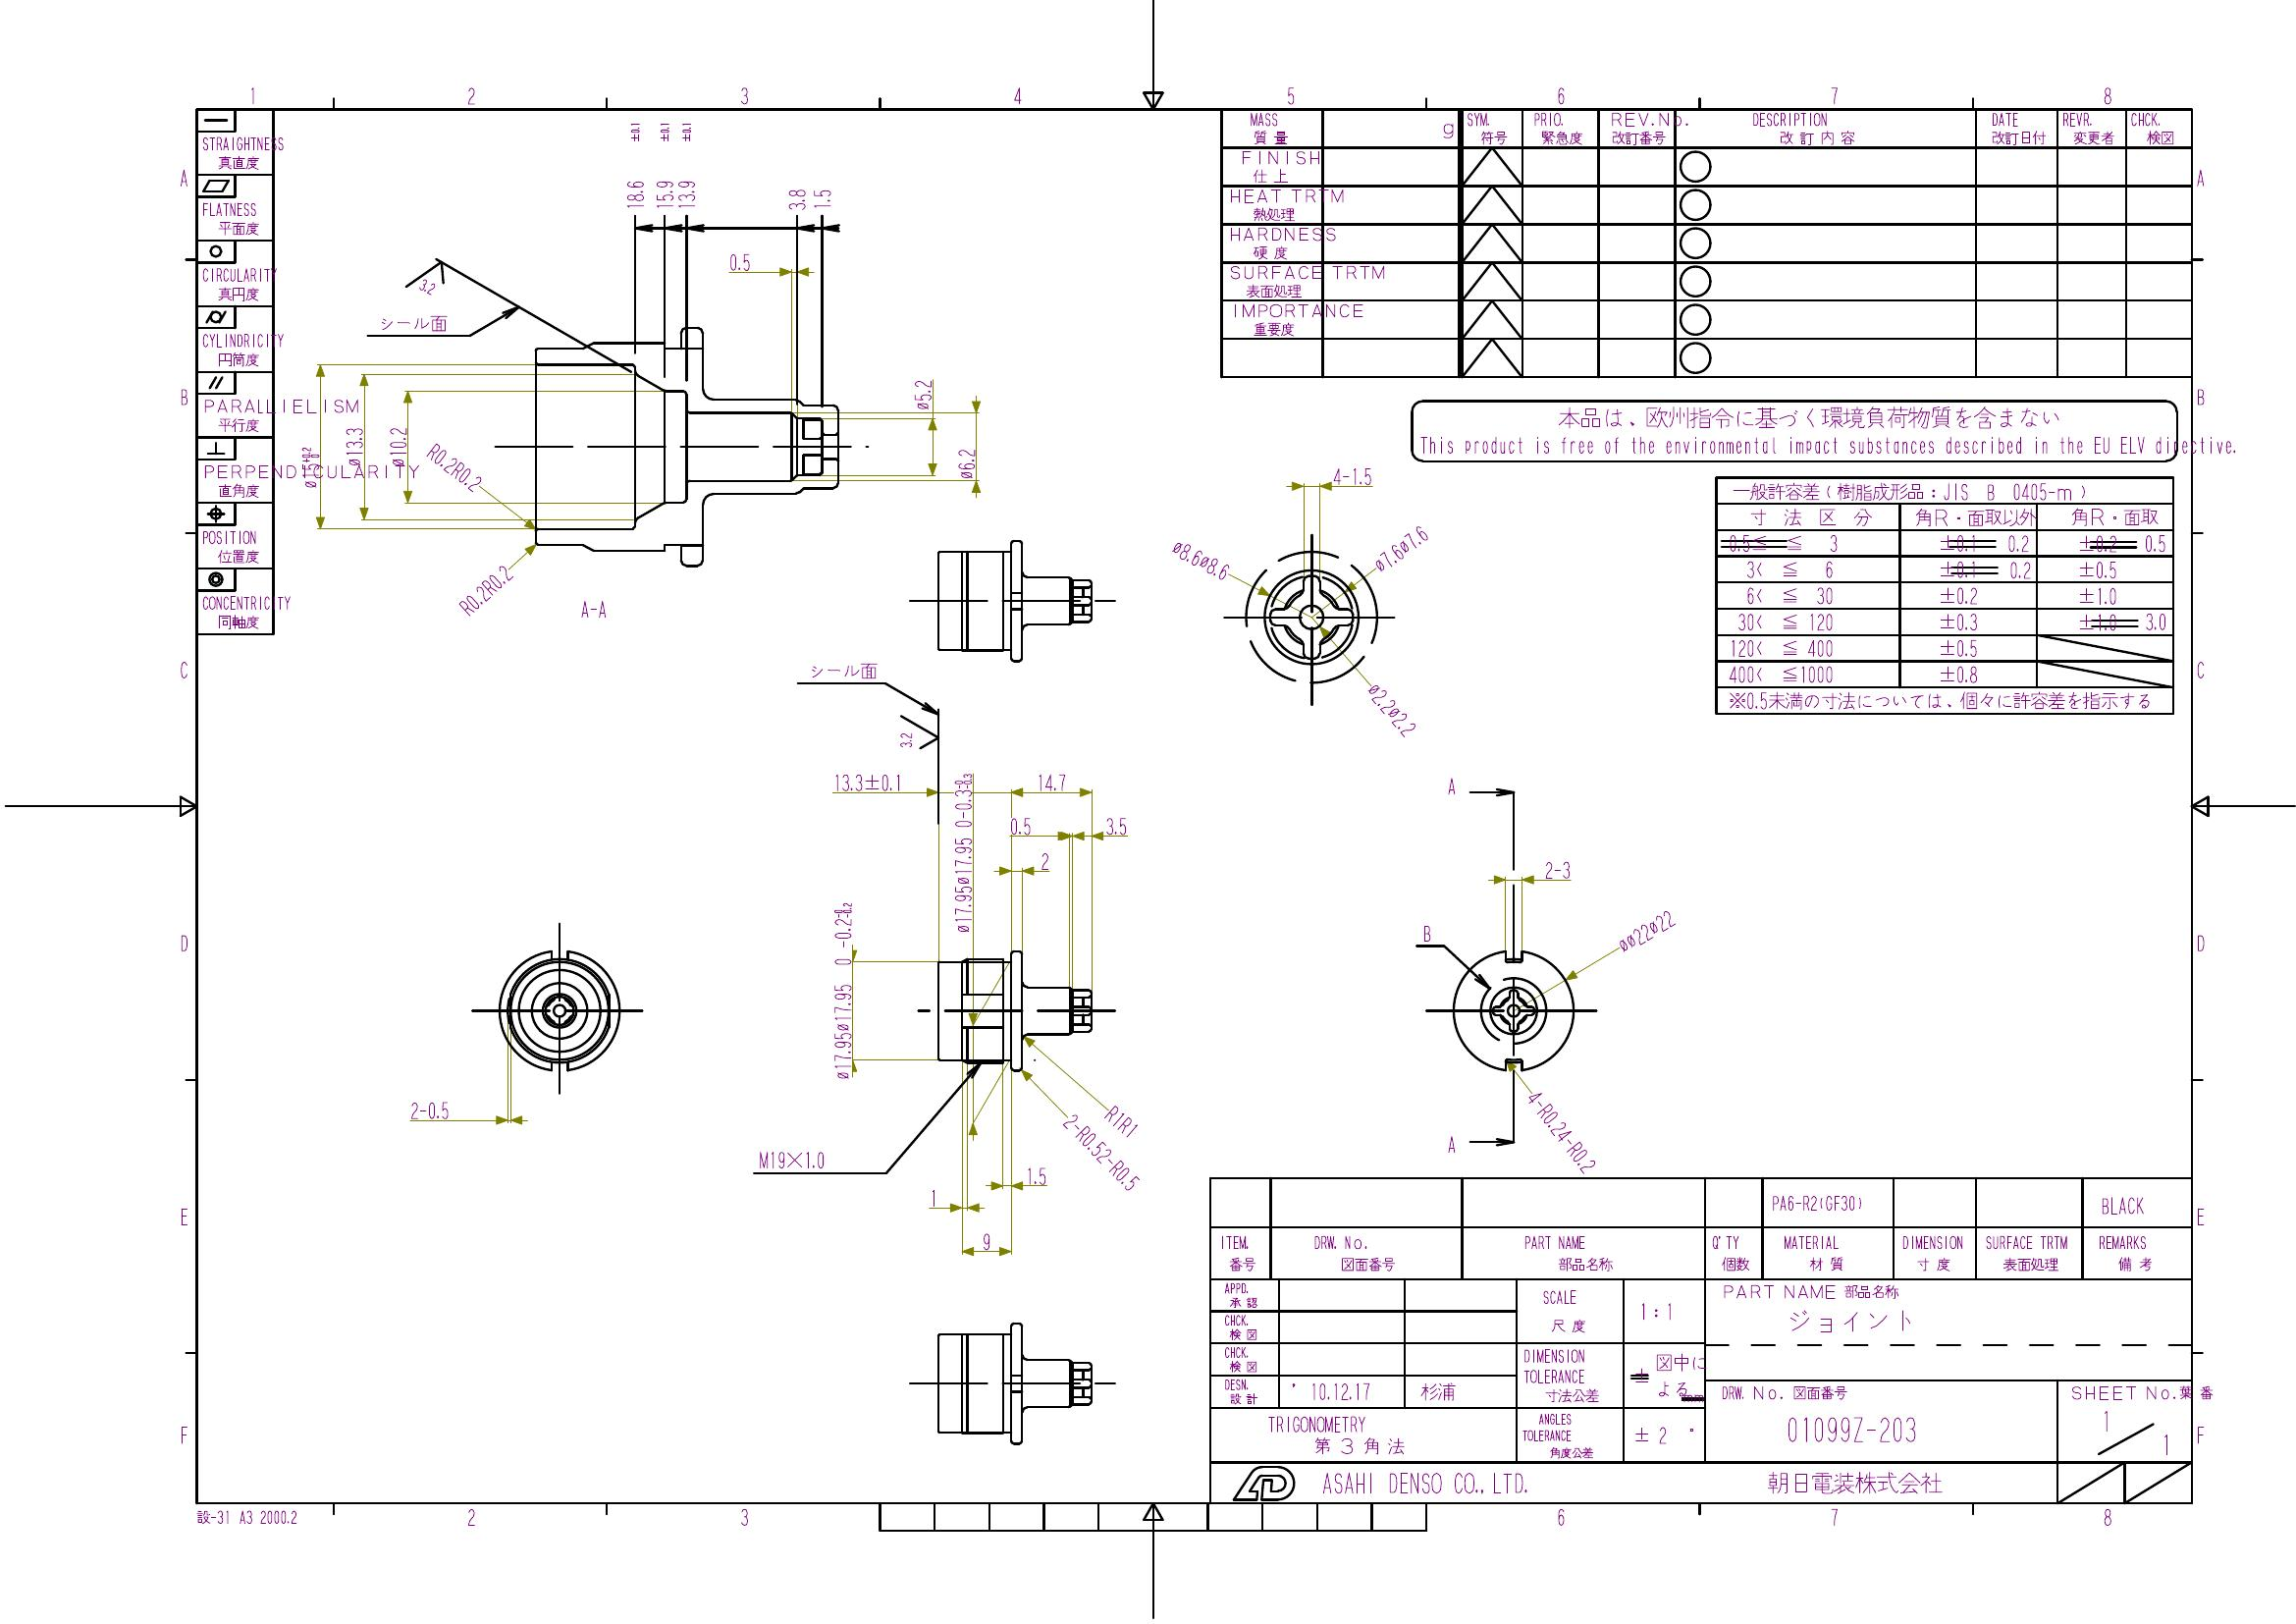anntotation_text: (1411, 399, 2178, 459), (195, 1503, 299, 1527), (803, 659, 880, 680), (376, 311, 450, 330), (578, 596, 611, 620), (1416, 917, 1439, 944), (1442, 1132, 1462, 1156), (1442, 772, 1460, 798)
dimension_text: (829, 898, 854, 1081), (949, 772, 971, 935), (624, 116, 648, 213), (1509, 1121, 1613, 1144), (653, 116, 675, 213), (1054, 1142, 1151, 1164), (678, 118, 699, 213), (755, 1146, 829, 1171), (831, 770, 908, 793), (451, 578, 520, 601), (1613, 919, 1679, 940), (420, 459, 488, 478), (1370, 540, 1437, 559), (1360, 700, 1425, 719), (1326, 464, 1379, 487), (406, 1095, 453, 1120), (1170, 550, 1233, 568), (341, 424, 364, 466), (299, 445, 320, 489), (1103, 1111, 1145, 1132), (1541, 858, 1576, 881), (1033, 766, 1068, 789), (1005, 810, 1036, 835), (954, 445, 975, 480), (388, 425, 406, 466), (787, 183, 806, 214), (913, 373, 929, 411), (813, 181, 831, 213), (1101, 814, 1128, 835), (727, 250, 750, 272), (1022, 1165, 1049, 1185), (1036, 847, 1056, 872), (896, 726, 913, 749), (924, 1185, 942, 1207), (978, 1230, 993, 1251), (420, 279, 437, 295)
object: (536, 327, 838, 566), (936, 538, 1093, 663), (936, 1320, 1093, 1445), (935, 947, 1093, 1070), (1245, 550, 1377, 684), (497, 947, 620, 1074), (1455, 949, 1572, 1070)
title_block: (1209, 1178, 2194, 1501), (1221, 111, 2196, 374), (1715, 478, 2171, 712), (197, 105, 274, 634)
